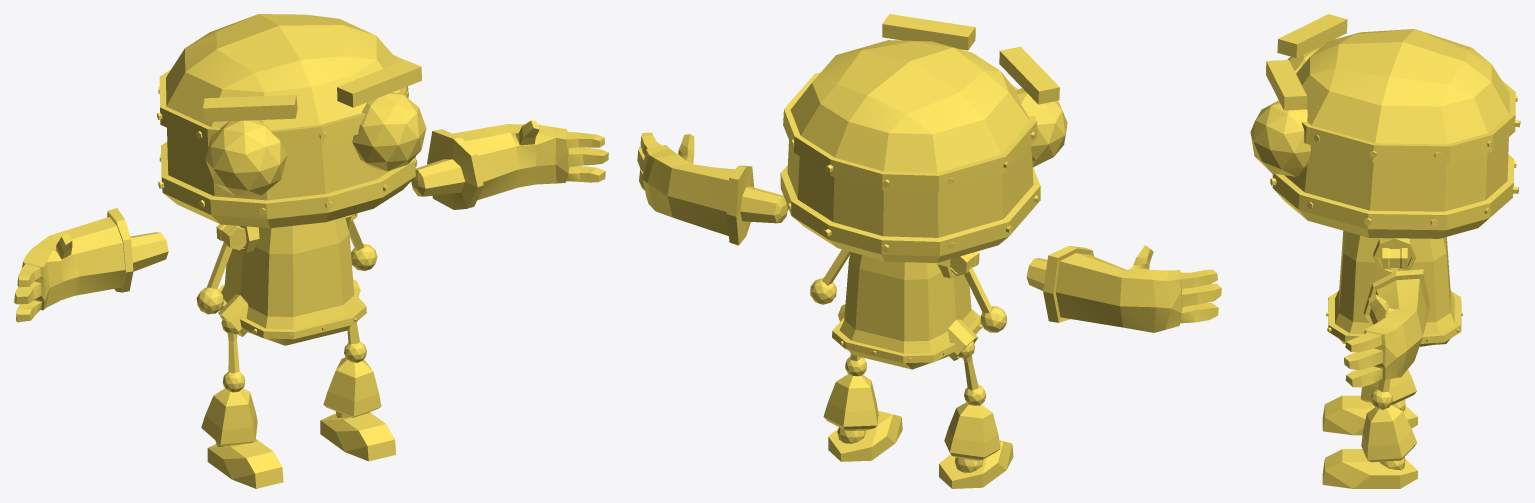
File: card-178.glb
3 views of the same model, side by side, from view 1: azimuth 30°, elevation 25°; view 2: azimuth 150°, elevation 25°; view 3: azimuth 270°, elevation 25° (orthographic). The views are drawn at different scales.
Visible parts, largest first — view 1: geometry_0; view 2: geometry_0; view 3: geometry_0.
Boxes of the visible parts, bbox=[...] form: geometry_0: bbox=[14, 14, 608, 488]; geometry_0: bbox=[637, 14, 1221, 488]; geometry_0: bbox=[1250, 14, 1520, 488].
Size of the model in its own units: 0.5193 by 0.35 by 0.2107.
